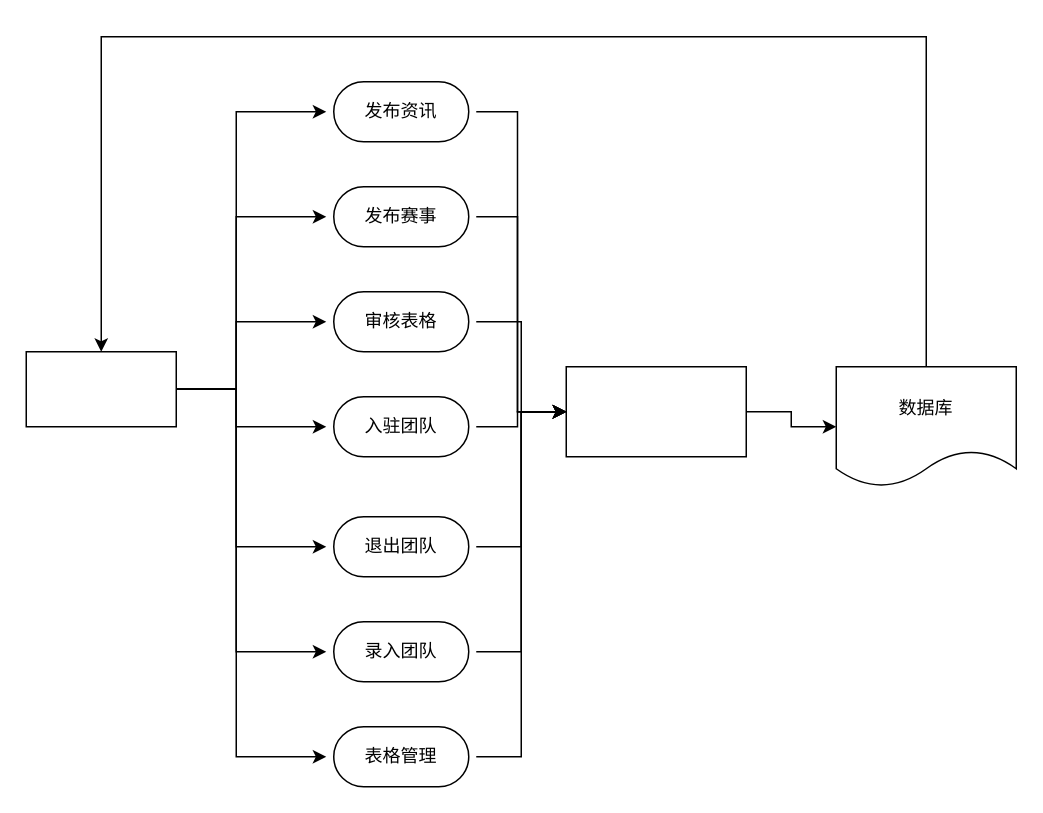
The diagram is 1043 pixels wide and 813 high, and some of its shapes have lost their labels. Here are the shapes that lost their labels. From the top down, the box of each, then its label:
(25, 350, 176, 427): 学校
(565, 365, 746, 457): 后台处理
